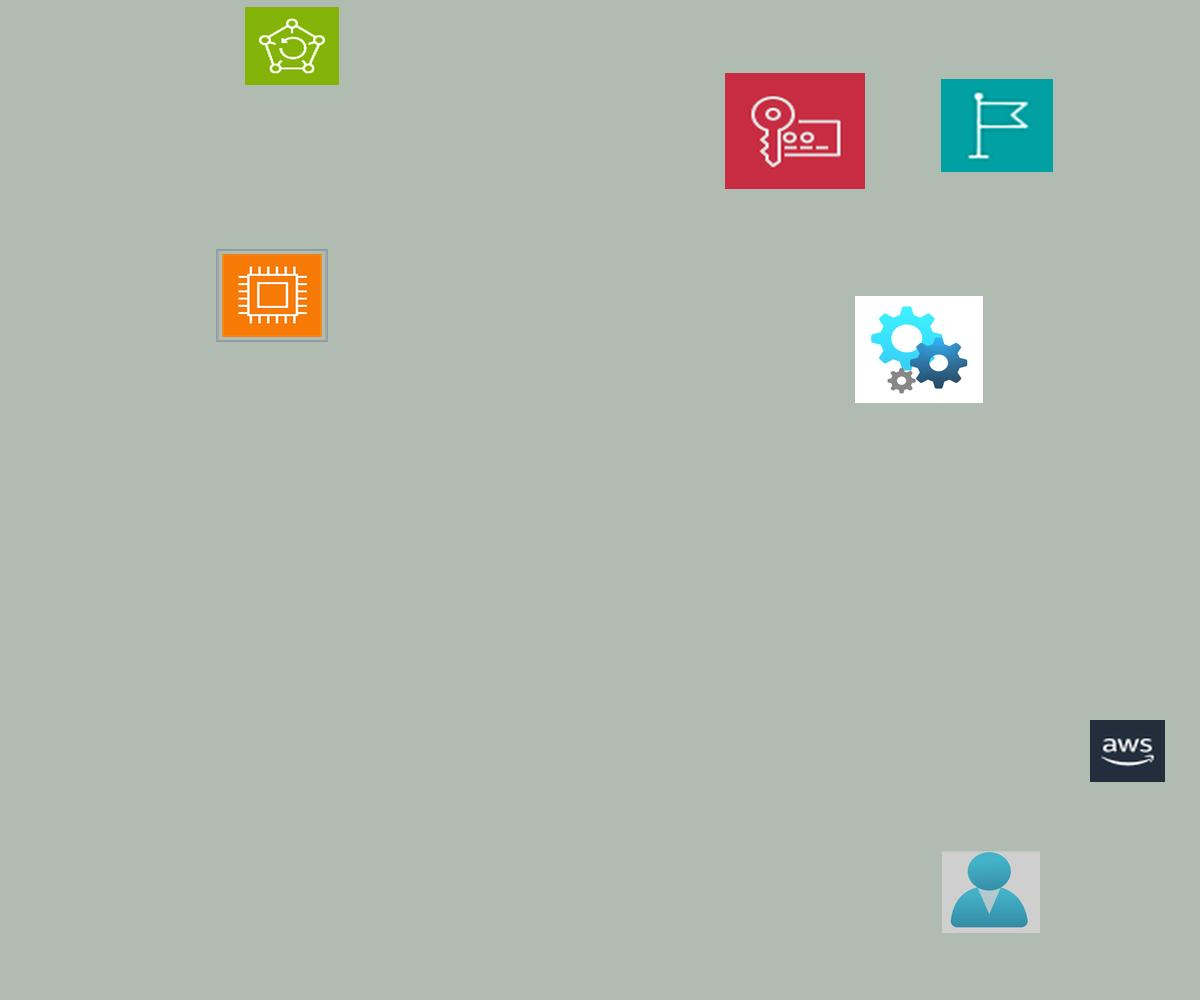AWS-Backup: (245, 7, 339, 85)
AWS-Category_Compute: (216, 249, 328, 342)
AWS-Cloud-logo: (1090, 720, 1165, 782)
AWS-Key-Management-Service: (725, 73, 865, 189)
AWS-Region: (941, 79, 1053, 172)
Azure_api: (855, 296, 983, 403)
Azure_users: (942, 851, 1040, 933)
